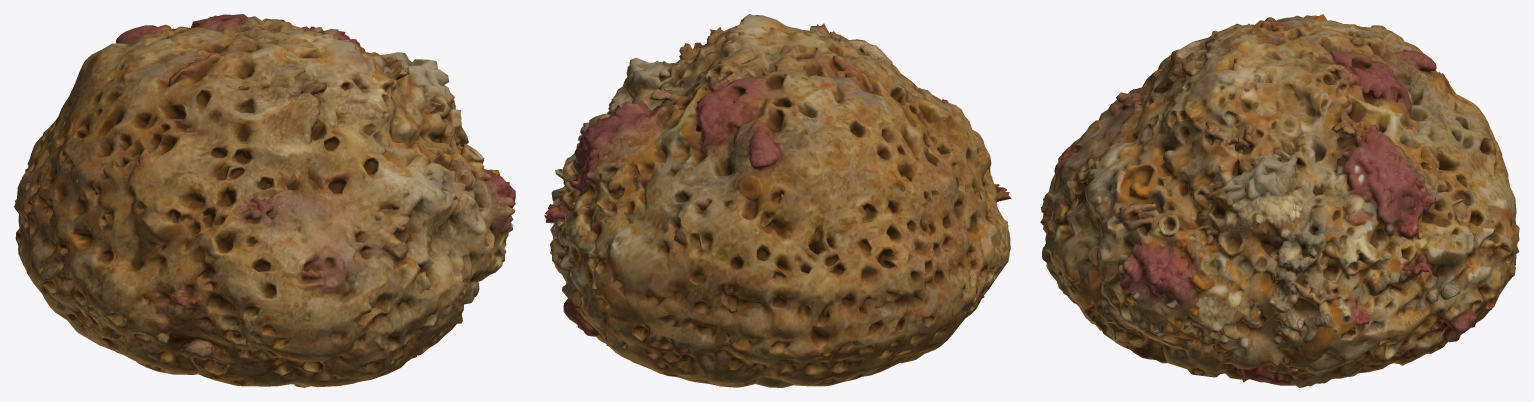
The model's file is rock_g.glb.
3 views of the same model, side by side, from view 1: azimuth 30°, elevation 25°; view 2: azimuth 150°, elevation 25°; view 3: azimuth 270°, elevation 25° (orthographic). The views are drawn at different scales.
Parts seen in each view (by area): view 1: tripo_node_0dc363c1-3ad1-40f1-9cb7-d6a55ededfa4; view 2: tripo_node_0dc363c1-3ad1-40f1-9cb7-d6a55ededfa4; view 3: tripo_node_0dc363c1-3ad1-40f1-9cb7-d6a55ededfa4.
Boxes of the visible parts, <box> form: tripo_node_0dc363c1-3ad1-40f1-9cb7-d6a55ededfa4: <box>14,14,515,387</box>; tripo_node_0dc363c1-3ad1-40f1-9cb7-d6a55ededfa4: <box>544,14,1011,387</box>; tripo_node_0dc363c1-3ad1-40f1-9cb7-d6a55ededfa4: <box>1040,14,1519,387</box>.
Size of the model in its own units: 0.9899 by 0.6426 by 1.
1 material, 1 textured.
